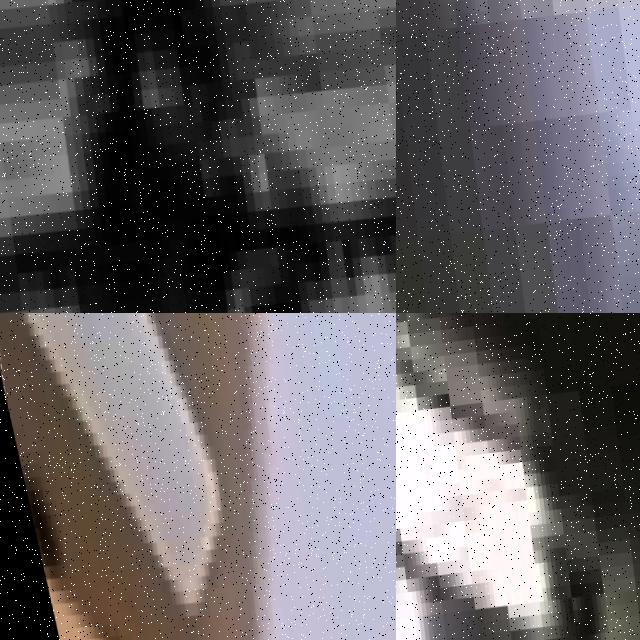drone: (0, 313, 396, 640), (0, 0, 396, 313)
